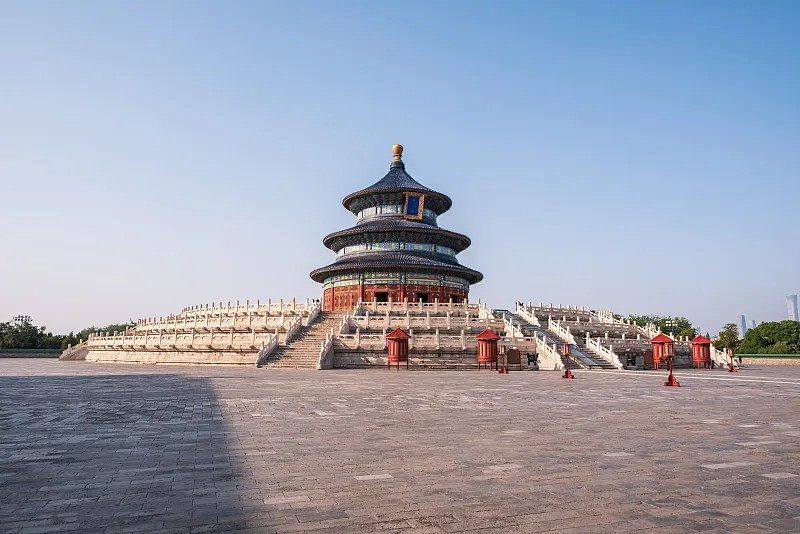Heaven: (308, 144, 484, 312)
